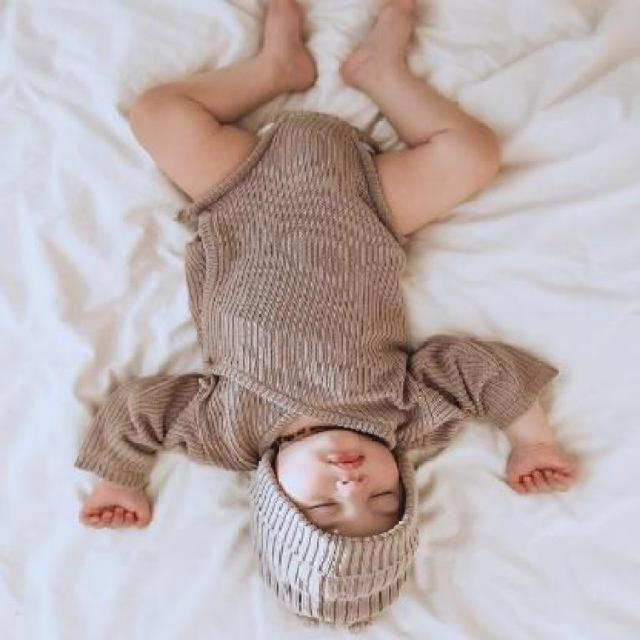child: (75, 2, 581, 630)
